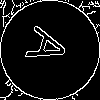A: (25, 25, 79, 72)
